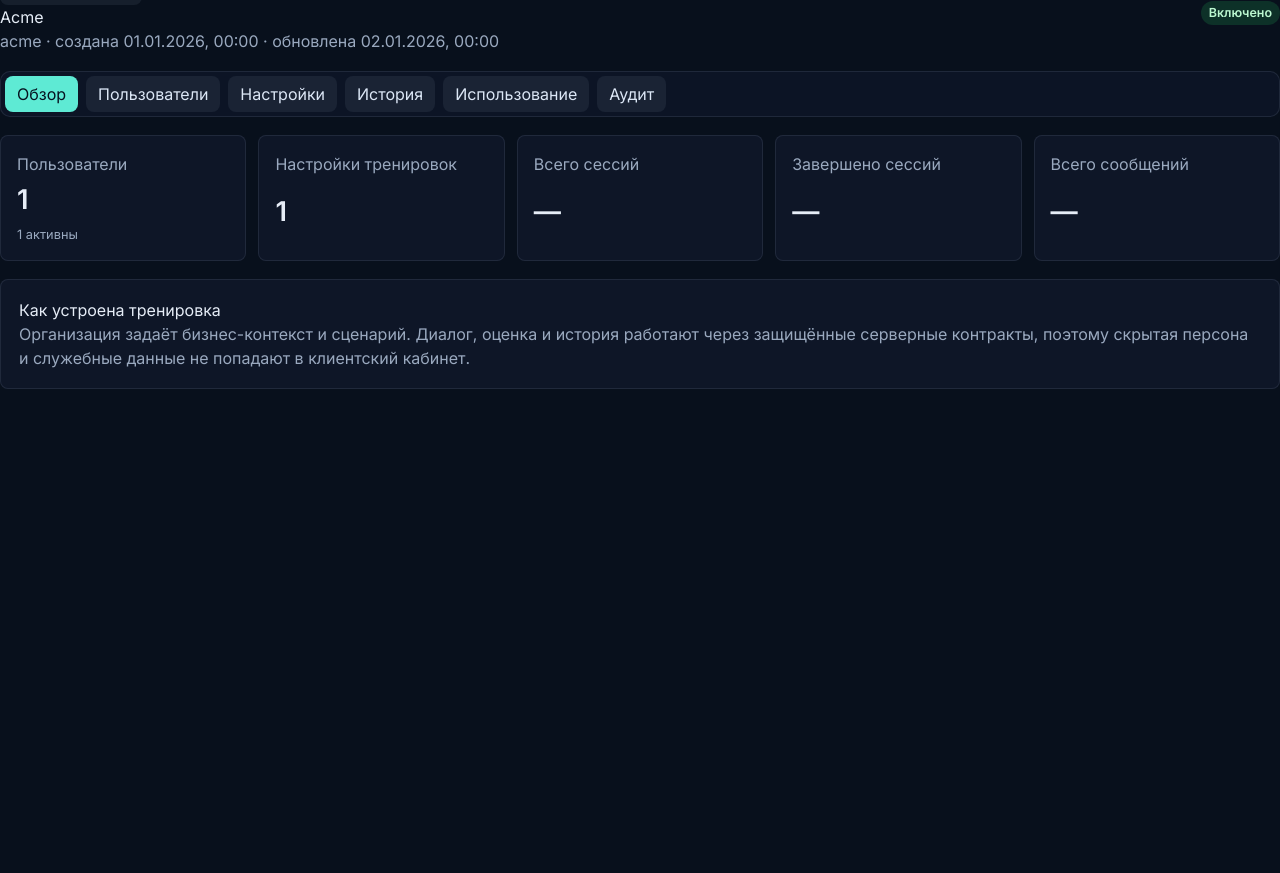
OrganizationDetailPage training configs › fills only visible fields when editing an existing config
The width and height of the screenshot is (1280, 873).
Click the button "Настройки": (283, 94) [228,76,337,112]
(page scrolled)
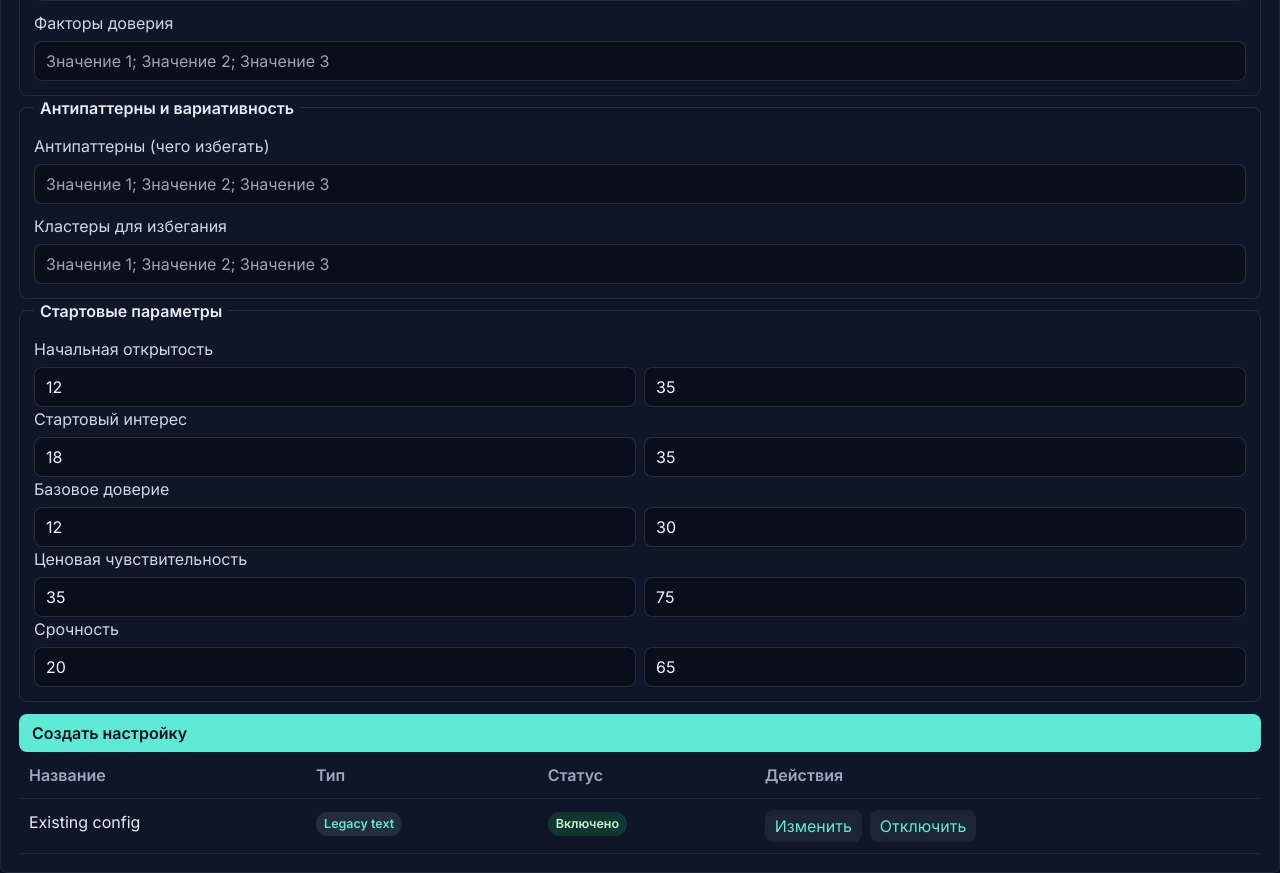
Expected: the text "Existing config" is shown, [19,798,306,853]
Expected: the button "Изменить" is shown
Click the button "Изменить": (813, 826) [765,810,862,842]
(page scrolled)
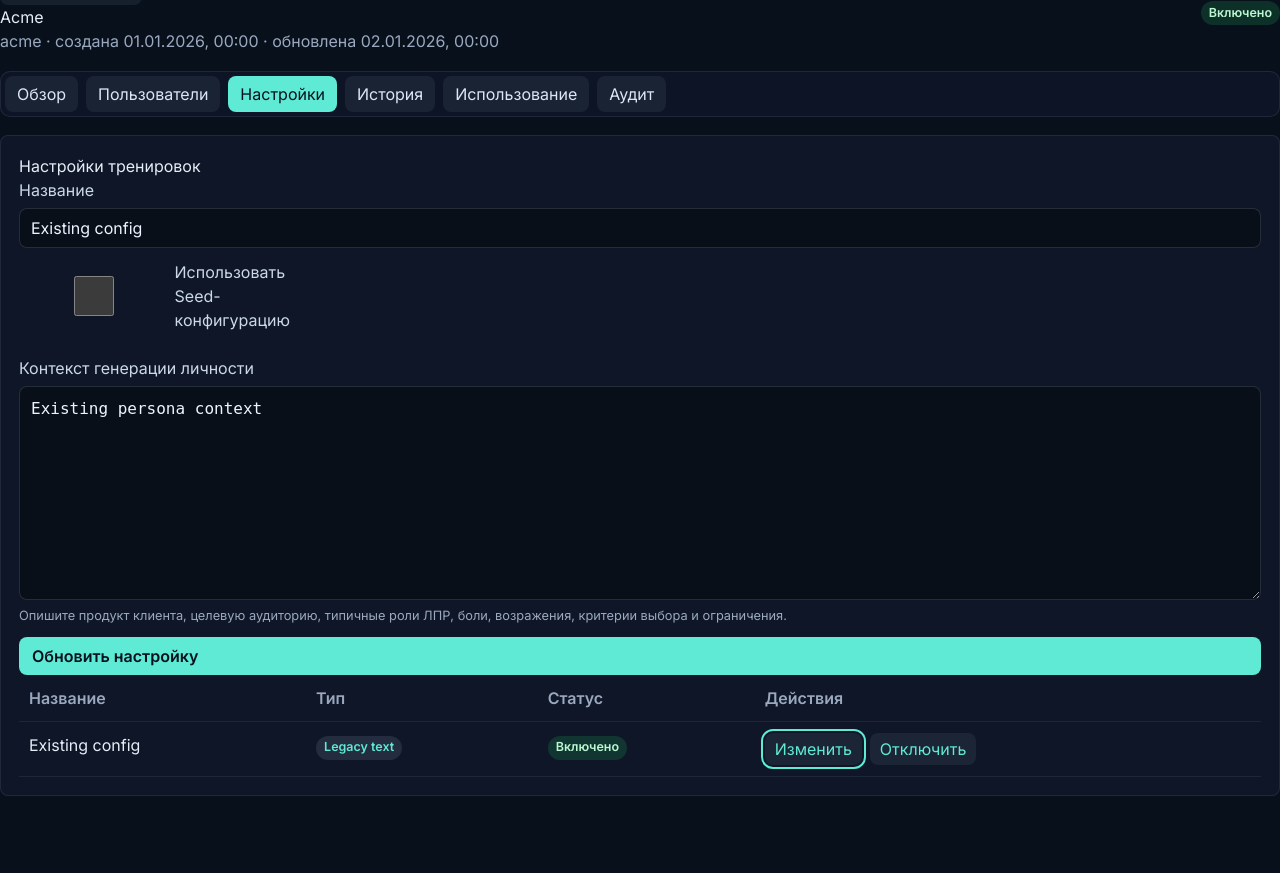
Expected: the field showing "Existing config" is shown, [19,208,1261,248]
Expected: the text box showing "Existing persona context" is shown, [19,386,1261,600]
